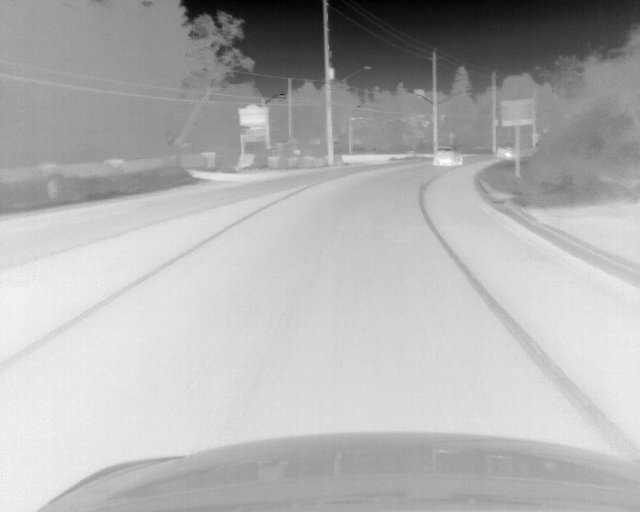car: (432, 145, 464, 166), (498, 147, 513, 157)
